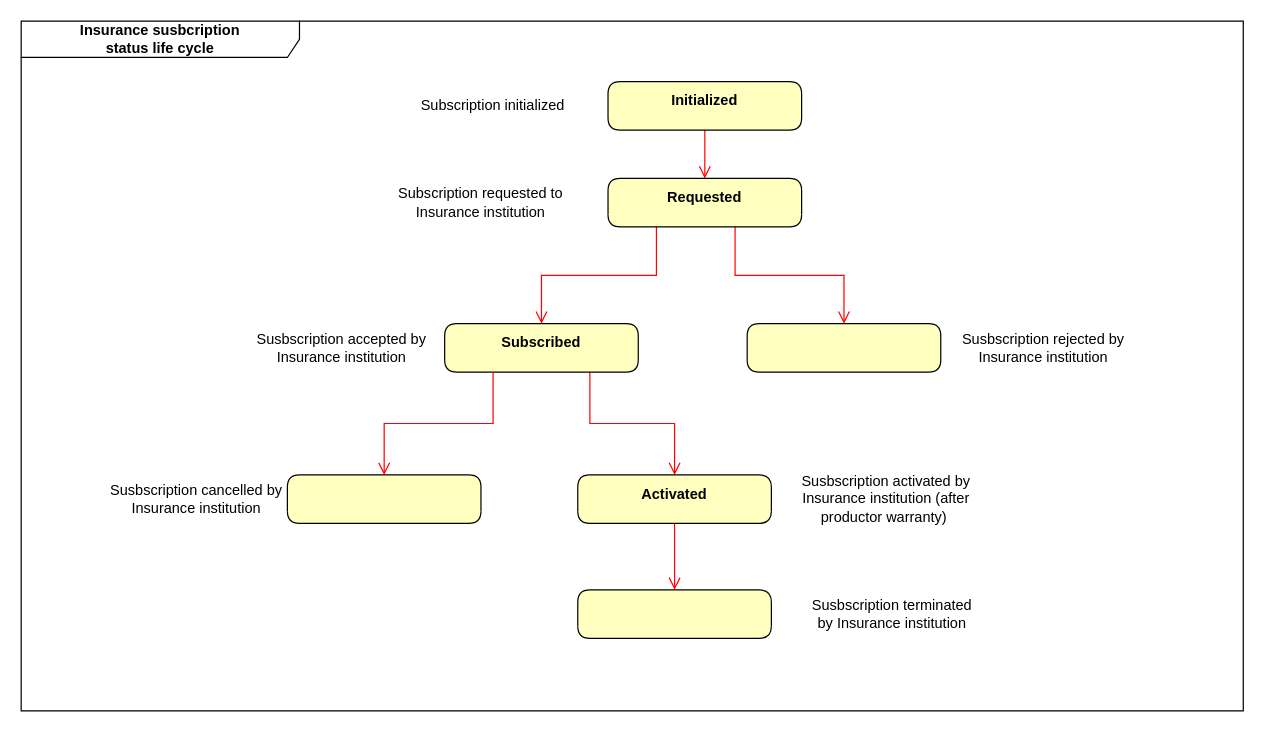
Some shapes in this 1264 by 732 pixel diagram are drawn without their labels. The shapes that lost their labels are listed below. From the top down, each one's centre as x and y in pixels, then its label:
[843,347]: Rejected
[383,498]: Cancelled
[674,613]: Teminated
